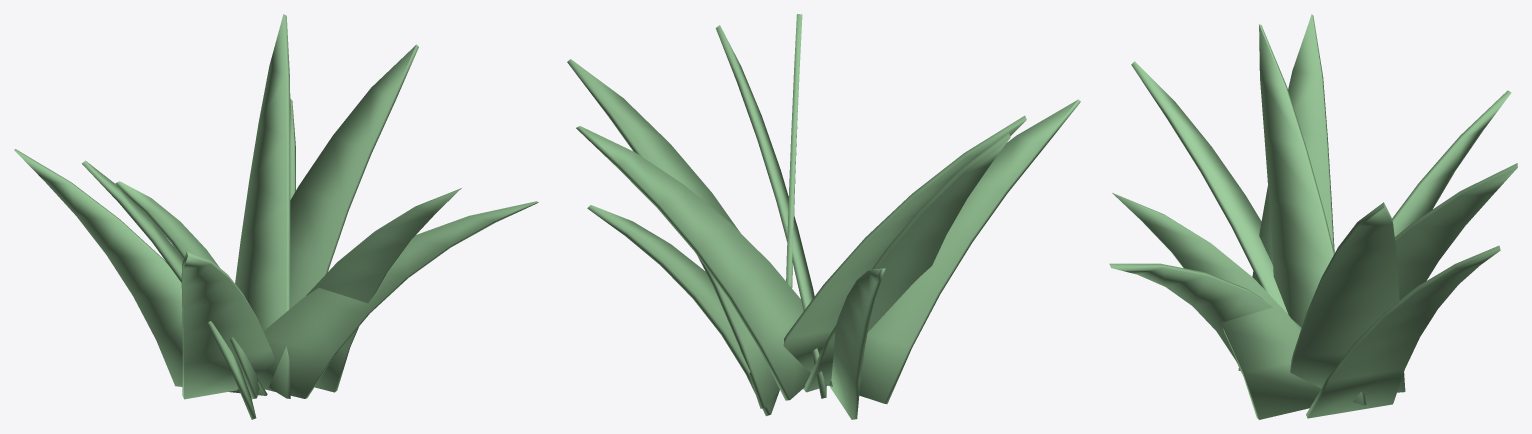
Rendered from aloe_2.glb.
3 views of the same model, side by side, from view 1: azimuth 30°, elevation 25°; view 2: azimuth 150°, elevation 25°; view 3: azimuth 270°, elevation 25° (orthographic). The views are drawn at different scales.
Parts seen in each view (by area): view 1: aloe; view 2: aloe; view 3: aloe.
Boxes of the visible parts, x1,y1,x2,y2 form: aloe: (14,14,538,419); aloe: (567,14,1080,419); aloe: (1109,14,1517,419).
Bounding box in the file's own units: 0.5049 × 0.364 × 0.4498.
